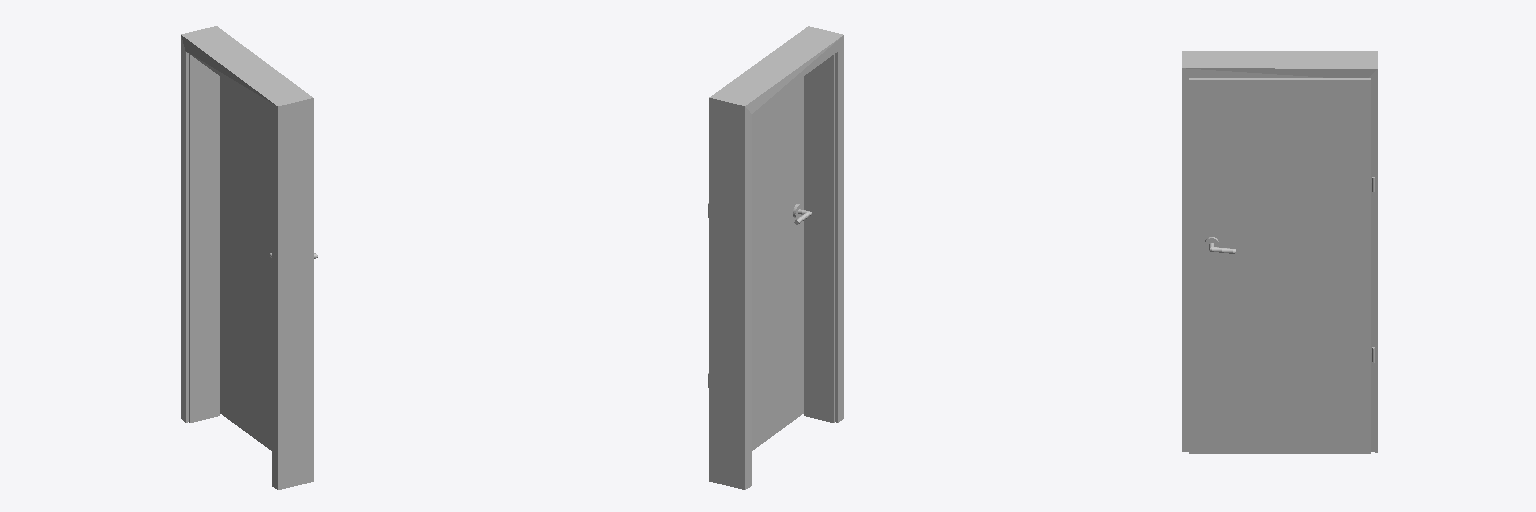
File: door19.obj
3 renders of one model, left to right at view 1: azimuth 30°, elevation 25°; view 2: azimuth 150°, elevation 25°; view 3: azimuth 270°, elevation 25°, orthographic.
Visible parts, largest first — view 1: Cylinder.005, Cylinder.001; view 2: Cylinder.005, Cylinder.001; view 3: Cylinder.001, Cylinder.005.
Boxes of the visible parts, x1=… form: Cylinder.005: x1=181, y1=26, x2=313, y2=489; Cylinder.001: x1=220, y1=77, x2=271, y2=450; Cylinder.005: x1=708, y1=26, x2=843, y2=489; Cylinder.001: x1=708, y1=77, x2=803, y2=450; Cylinder.001: x1=1189, y1=78, x2=1374, y2=453; Cylinder.005: x1=1182, y1=51, x2=1377, y2=452.
Bounding box in the file's own units: 0.3039 × 2.05 × 0.95.